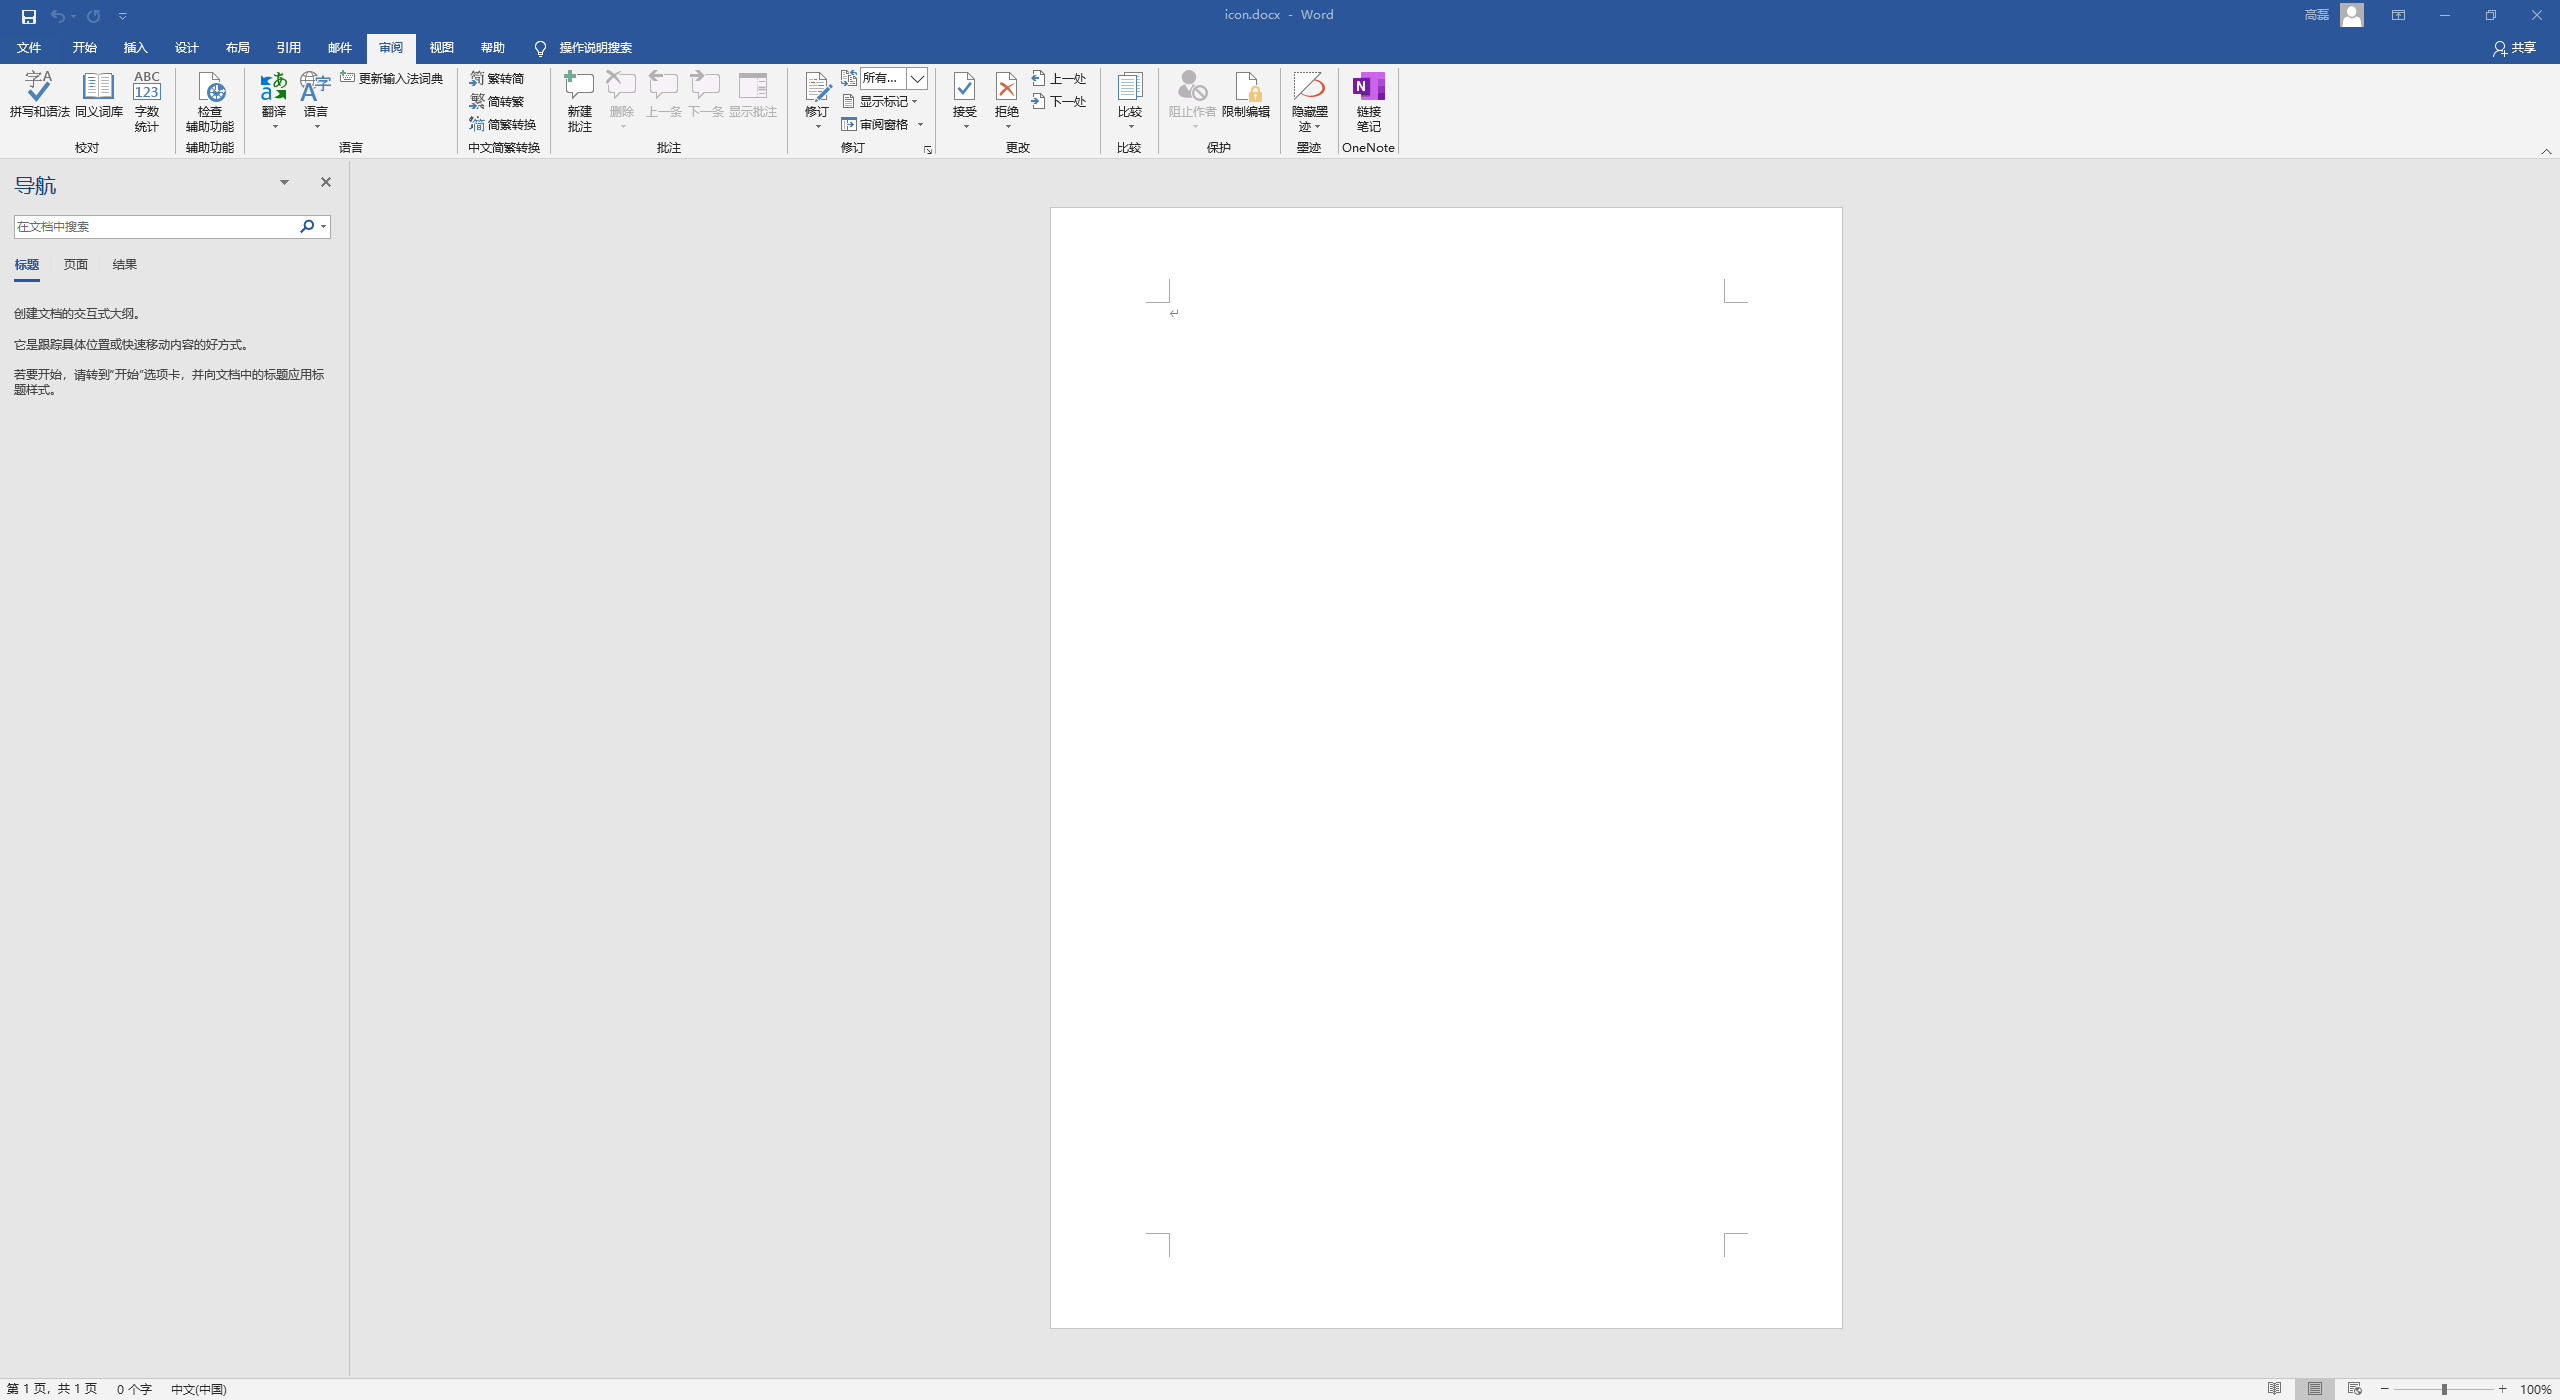character: (14, 366, 329, 397), (14, 336, 250, 353), (5, 1383, 231, 1398), (1219, 5, 1339, 22), (12, 305, 136, 321), (179, 105, 238, 133), (16, 219, 95, 234), (557, 40, 634, 55), (359, 71, 445, 84), (465, 141, 541, 155), (1352, 105, 1386, 134), (10, 176, 59, 197), (1341, 140, 1398, 155), (9, 105, 71, 119), (564, 105, 596, 131), (1222, 103, 1276, 119), (488, 117, 538, 133), (133, 105, 160, 133), (184, 141, 236, 155), (727, 103, 777, 117), (1167, 103, 1217, 117), (1289, 105, 1333, 121), (860, 95, 908, 109), (860, 117, 907, 131), (1050, 95, 1091, 109), (76, 105, 122, 117), (2519, 1383, 2555, 1398), (333, 140, 372, 153), (486, 95, 526, 109), (171, 40, 205, 55), (271, 40, 305, 55), (10, 253, 41, 271), (479, 38, 509, 55), (109, 255, 138, 272), (2303, 5, 2332, 22), (66, 141, 102, 155), (486, 72, 526, 84), (221, 41, 255, 55), (374, 41, 409, 55), (840, 136, 864, 155), (429, 40, 459, 55), (1005, 140, 1034, 155), (1115, 140, 1145, 155), (1203, 140, 1233, 155), (1293, 140, 1322, 155), (1052, 72, 1088, 84), (121, 41, 152, 55), (326, 40, 353, 55), (62, 257, 90, 272), (690, 105, 724, 117), (657, 140, 683, 155), (646, 107, 684, 117), (71, 40, 98, 53), (14, 41, 45, 53), (302, 105, 333, 117), (2513, 40, 2538, 55), (802, 105, 829, 117), (260, 105, 286, 117), (953, 105, 979, 117), (995, 105, 1021, 117), (1115, 107, 1145, 117), (609, 107, 634, 117)
icon: (645, 67, 683, 103), (1350, 69, 1389, 103), (602, 67, 640, 102), (297, 67, 331, 103), (688, 67, 724, 102), (1176, 67, 1210, 103), (1291, 67, 1327, 102), (1231, 67, 1265, 103), (79, 69, 117, 102), (560, 69, 596, 102), (22, 67, 53, 103), (802, 67, 833, 103), (736, 67, 771, 98), (1114, 69, 1145, 103), (991, 67, 1021, 103), (197, 71, 228, 103), (129, 71, 162, 102), (259, 71, 290, 103), (950, 67, 977, 103), (903, 66, 927, 90), (2339, 3, 2363, 28), (2263, 1379, 2289, 1397), (2301, 1379, 2327, 1397), (2339, 1379, 2363, 1397), (17, 7, 38, 26), (840, 67, 859, 88), (467, 91, 486, 110), (467, 114, 486, 133), (840, 114, 859, 133), (47, 7, 67, 24), (83, 7, 102, 24), (1027, 91, 1046, 109), (1029, 67, 1046, 86), (2491, 40, 2508, 59), (2527, 5, 2546, 22), (338, 67, 355, 84), (298, 217, 315, 234), (467, 69, 484, 86), (840, 91, 857, 109), (2482, 5, 2500, 22), (2389, 5, 2407, 22), (317, 172, 333, 190), (2436, 7, 2453, 22), (2439, 1381, 2455, 1398), (2377, 1379, 2393, 1395), (533, 40, 546, 57), (2538, 147, 2557, 159), (912, 116, 926, 131), (2494, 1383, 2510, 1397), (310, 119, 324, 133), (116, 9, 129, 22), (269, 119, 283, 133), (810, 119, 824, 133), (1312, 119, 1326, 133), (317, 217, 329, 233), (908, 93, 921, 109), (67, 9, 79, 22), (278, 176, 291, 188), (888, 72, 900, 86), (1002, 119, 1015, 131), (1188, 119, 1202, 131), (617, 119, 629, 131), (960, 121, 972, 131), (922, 145, 934, 153), (1126, 121, 1138, 129)
